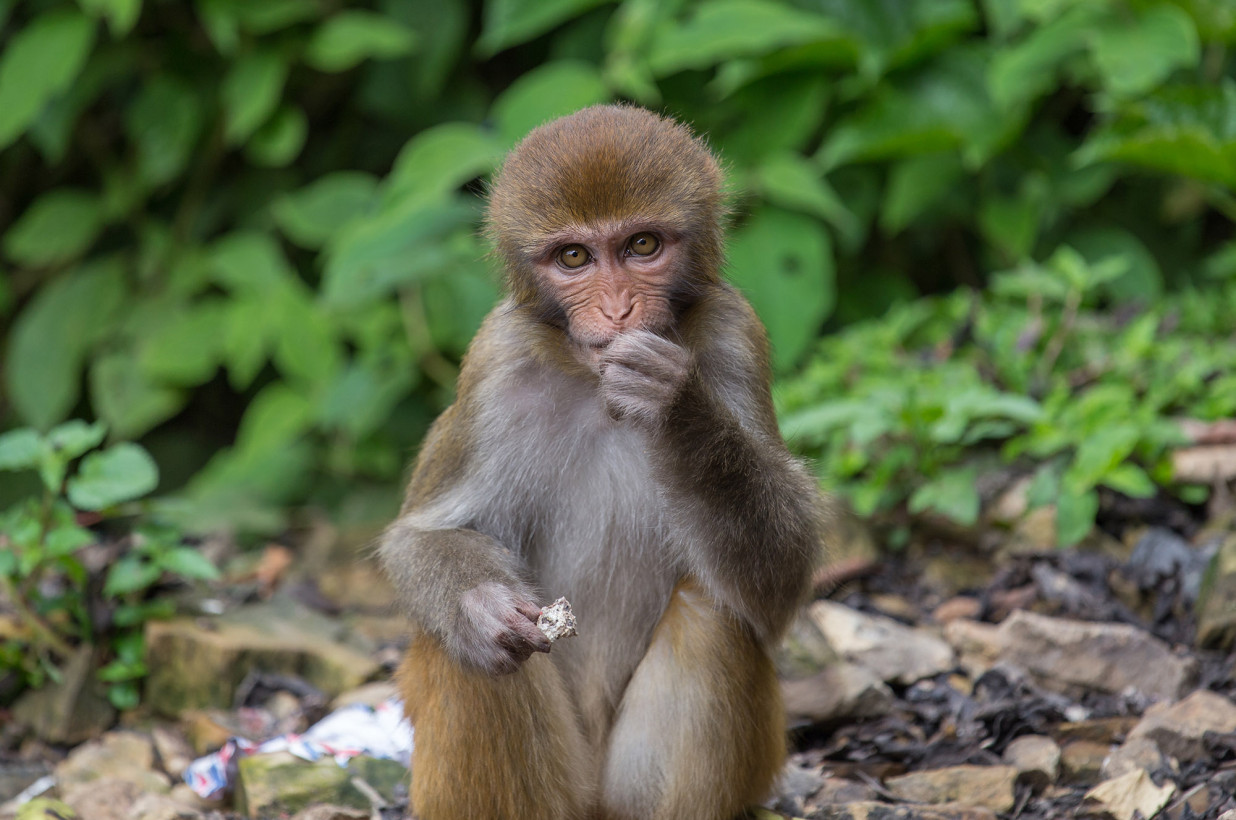monkey: (369, 100, 829, 820)
